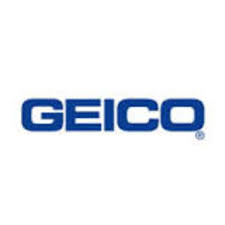Geico: (22, 94, 206, 142)
